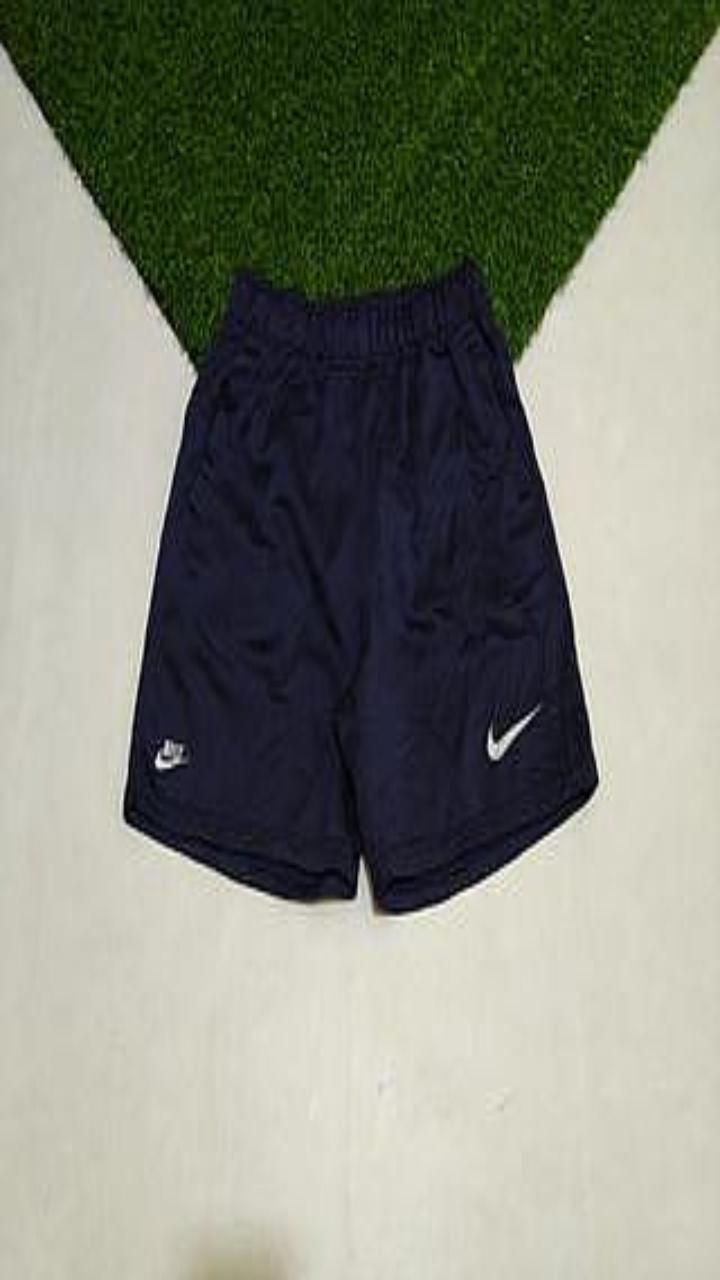Shorts: (123, 258, 597, 911)
